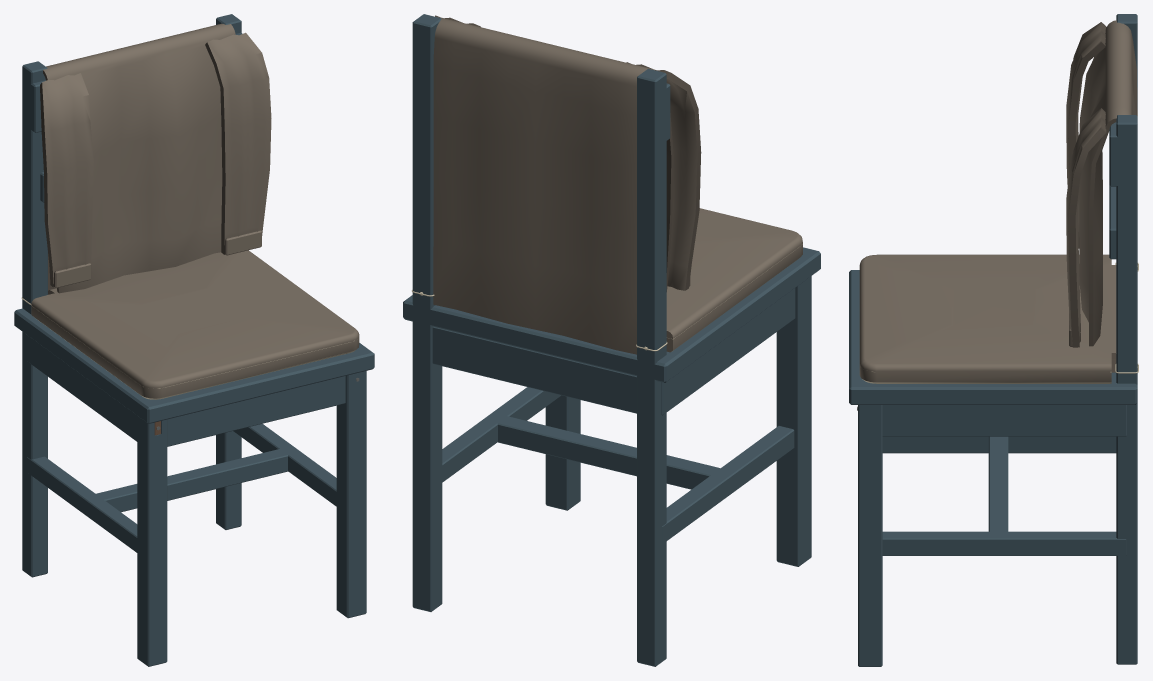
The model's file is kitchen-chair-blue-3cc12a39a9e2.glb.
3 views of the same model, side by side, from view 1: azimuth 30°, elevation 25°; view 2: azimuth 150°, elevation 25°; view 3: azimuth 270°, elevation 25° (orthographic). The views are drawn at different scales.
Visible parts, largest first — view 1: cover-print, enamel-blue, fabric, paper; view 2: enamel-blue, cover-print, fabric; view 3: enamel-blue, cover-print, fabric, paper.
Boxes of the visible parts, left/top/right/bottom form: cover-print: left=31, top=23, right=359, bottom=398; enamel-blue: left=14, top=14, right=374, bottom=666; fabric: left=40, top=42, right=260, bottom=292; paper: left=21, top=297, right=355, bottom=399; enamel-blue: left=403, top=14, right=820, bottom=666; cover-print: left=433, top=17, right=802, bottom=354; fabric: left=435, top=15, right=701, bottom=291; enamel-blue: left=849, top=14, right=1137, bottom=666; cover-print: left=859, top=20, right=1137, bottom=382; fabric: left=1068, top=22, right=1116, bottom=347; paper: left=860, top=263, right=1138, bottom=383.
Size of the model in its own units: 0.4 by 0.85 by 0.4118.
